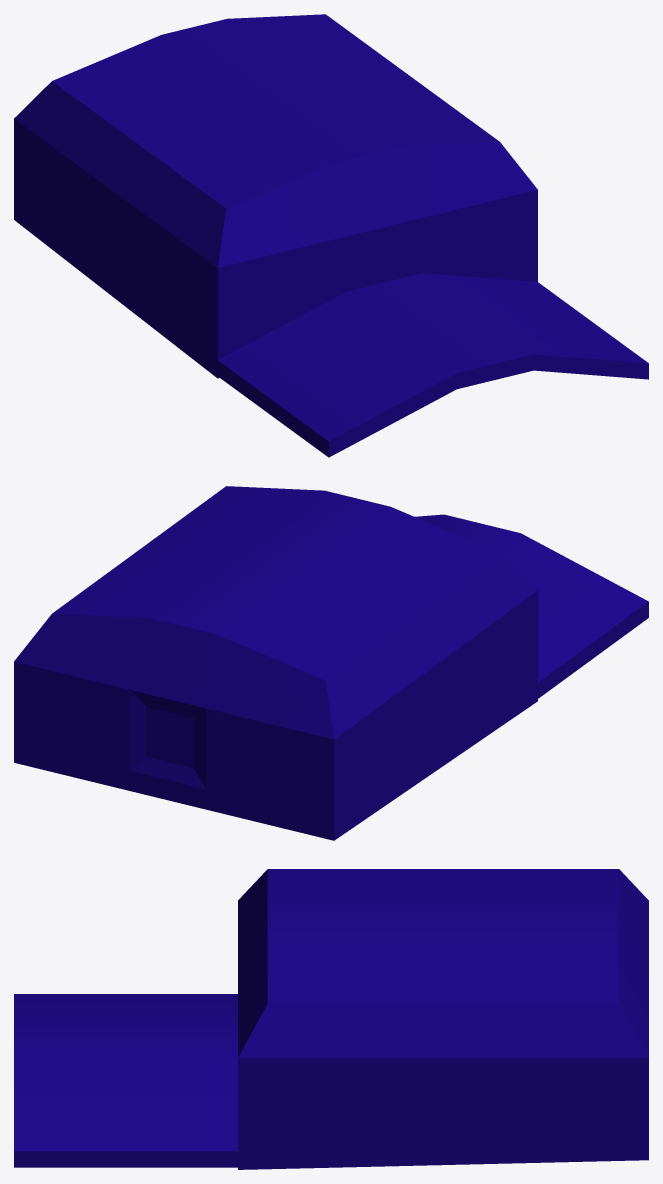
Rendered from bleucap.fbx.
3 views of the same model, one above another, from view 1: azimuth 30°, elevation 25°; view 2: azimuth 150°, elevation 25°; view 3: azimuth 270°, elevation 25° (orthographic).
Parts seen in each view (by area): view 1: Hat_Ca_1; view 2: Hat_Ca_1; view 3: Hat_Ca_1.
Part boxes in pixels (x1,y1,x2,y2): Hat_Ca_1: (14, 14, 648, 457); Hat_Ca_1: (14, 486, 648, 840); Hat_Ca_1: (14, 869, 648, 1169).
Size of the model in its own units: 1.08 by 0.5578 by 1.84.
